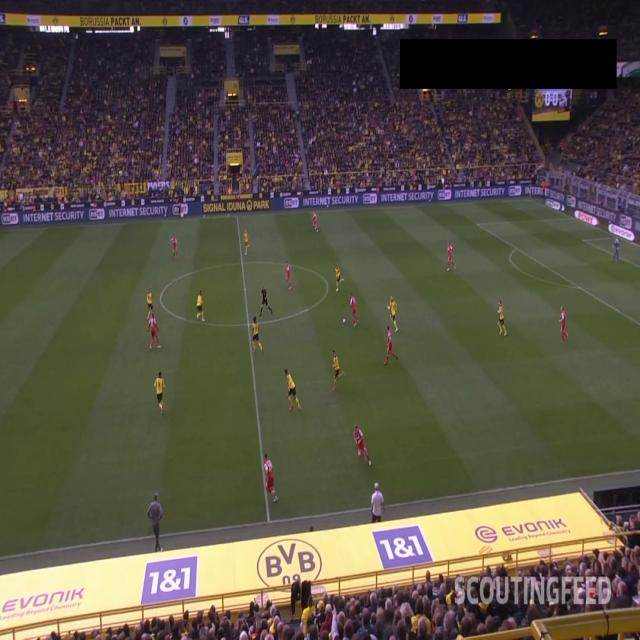f_player: (148, 493, 166, 552), (286, 368, 302, 414), (370, 482, 386, 522), (148, 308, 162, 349), (155, 372, 168, 415), (388, 296, 401, 332), (495, 299, 507, 337), (560, 306, 570, 344), (195, 290, 206, 322), (348, 294, 358, 326), (446, 244, 456, 272), (310, 212, 320, 235), (612, 238, 621, 260)
